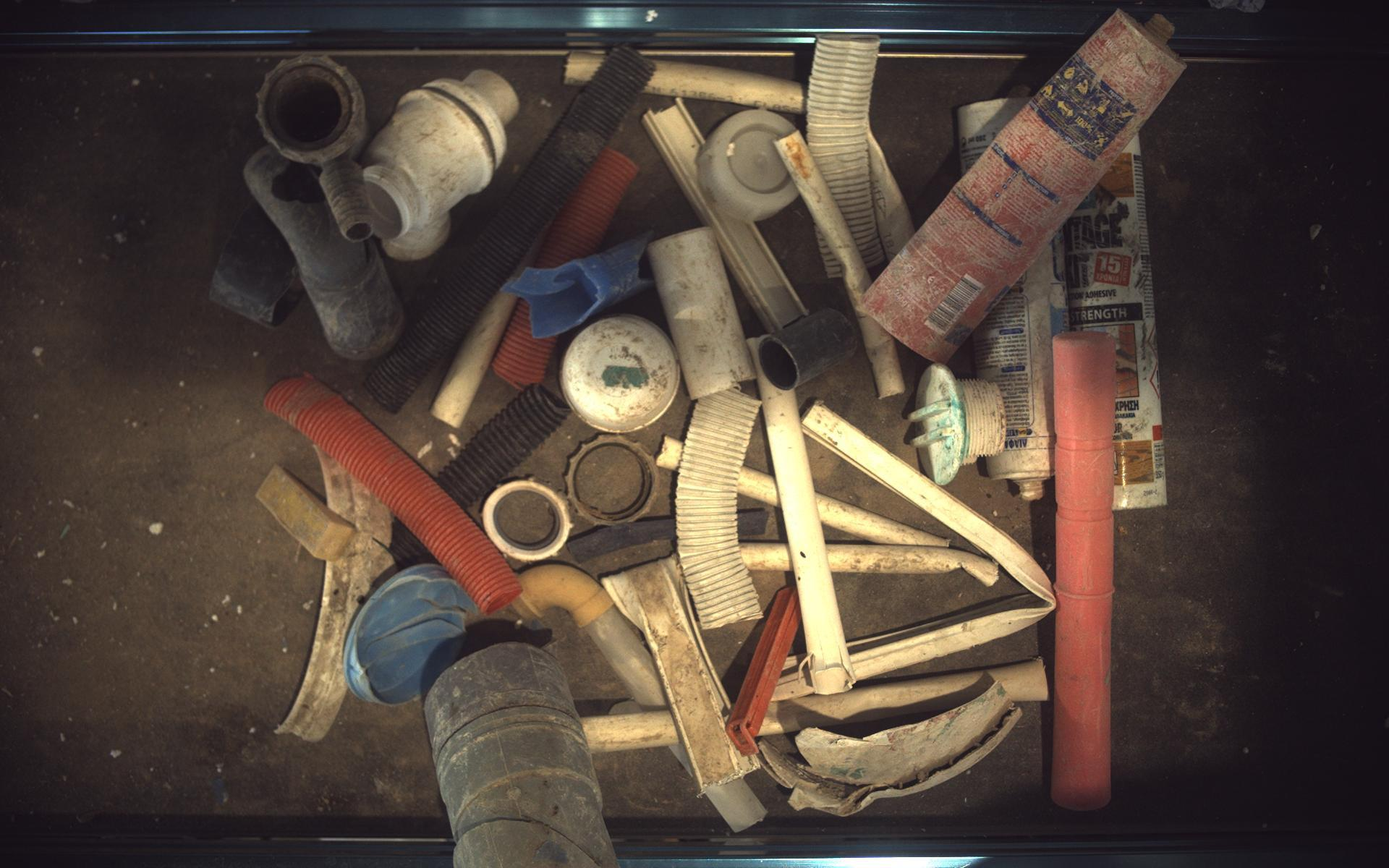pipes: (365, 45, 654, 412), (264, 373, 522, 614), (425, 645, 617, 868), (752, 347, 857, 695), (243, 143, 403, 360), (777, 130, 906, 398), (514, 565, 668, 708), (256, 54, 373, 242), (676, 388, 763, 630), (649, 226, 756, 399), (809, 35, 887, 267), (436, 383, 571, 510), (763, 671, 993, 737), (534, 147, 639, 268), (208, 202, 303, 327), (431, 291, 517, 428), (645, 59, 807, 113), (645, 59, 807, 112), (760, 308, 859, 390), (828, 546, 1001, 587), (817, 495, 949, 548), (867, 126, 917, 259), (492, 300, 558, 390), (582, 711, 677, 754), (705, 779, 768, 834), (987, 659, 1050, 702), (389, 521, 435, 569), (739, 467, 781, 507), (742, 542, 793, 571), (564, 50, 606, 84), (817, 228, 844, 278), (657, 436, 684, 470)
plastic: (866, 9, 1187, 362), (804, 403, 1058, 681), (644, 98, 809, 332), (1066, 135, 1169, 509), (603, 557, 760, 795), (759, 682, 1024, 818), (276, 446, 393, 742), (1053, 331, 1118, 812), (363, 69, 519, 260), (974, 233, 1071, 501), (344, 564, 475, 705), (502, 231, 654, 338), (561, 315, 681, 433), (727, 587, 802, 757), (910, 364, 1008, 485), (697, 108, 799, 222), (255, 465, 357, 561), (566, 434, 658, 525), (483, 480, 573, 562), (566, 517, 676, 563), (959, 97, 1026, 171), (775, 660, 814, 701), (739, 508, 770, 538)
